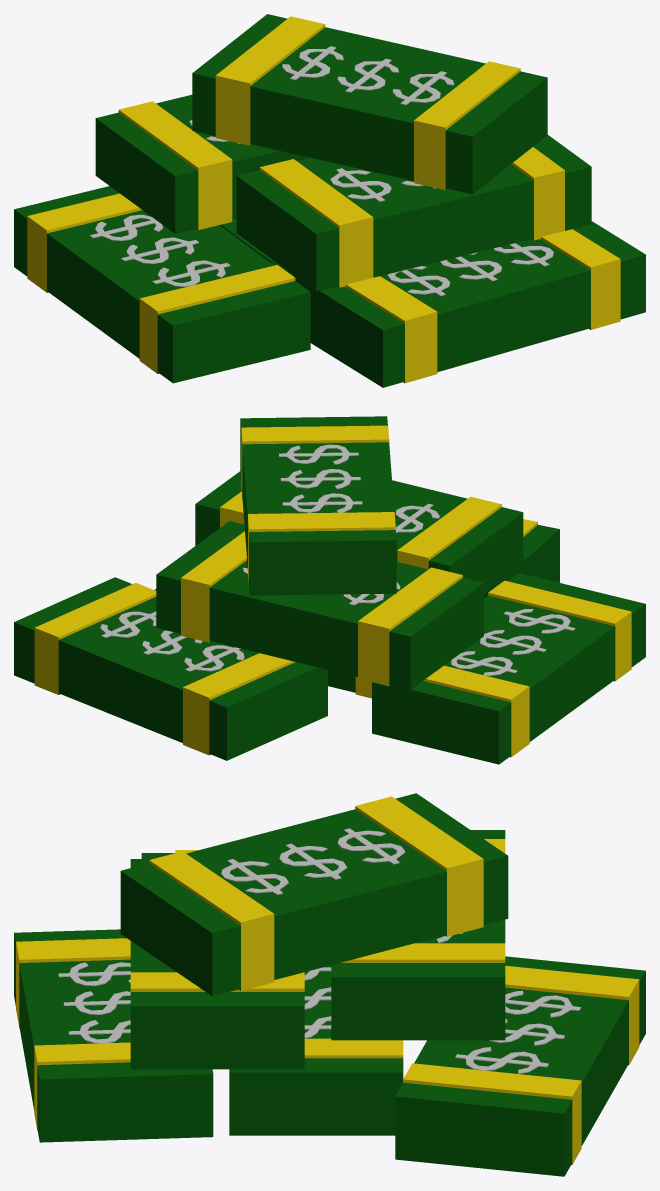
File: Cash ($20).glb
3 views of the same model, one above another, from view 1: azimuth 30°, elevation 25°; view 2: azimuth 150°, elevation 25°; view 3: azimuth 270°, elevation 25° (orthographic). The views are drawn at different scales.
Visible parts, largest first — view 1: Cash.005, Cash.006, Cash.001, Cash.002, Cash.004; view 2: Cash.003, Cash.006, Cash.004, Cash.005, Cash.002, Cash.001, Cash; view 3: Cash.005, Cash.003, Cash.001, Cash.004, Cash.002, Cash.
Boxes of the visible parts, <box> form: Cash.005: <box>192,14,547,194</box>; Cash.006: <box>14,186,310,383</box>; Cash.001: <box>293,221,645,387</box>; Cash.002: <box>236,135,591,291</box>; Cash.004: <box>95,94,309,233</box>; Cash.003: <box>14,577,327,760</box>; Cash.006: <box>372,573,645,764</box>; Cash.004: <box>156,521,483,689</box>; Cash.005: <box>240,416,396,595</box>; Cash.002: <box>195,471,523,593</box>; Cash.001: <box>484,519,559,597</box>; Cash: <box>154,589,371,698</box>; Cash.005: <box>120,793,508,996</box>; Cash.003: <box>395,956,645,1176</box>; Cash.001: <box>14,929,213,1142</box>; Cash.004: <box>331,830,505,1040</box>; Cash.002: <box>130,859,304,1069</box>; Cash: <box>229,965,403,1135</box>.
Bounding box in the file's own units: 0.5437 × 0.1987 × 0.5533.
